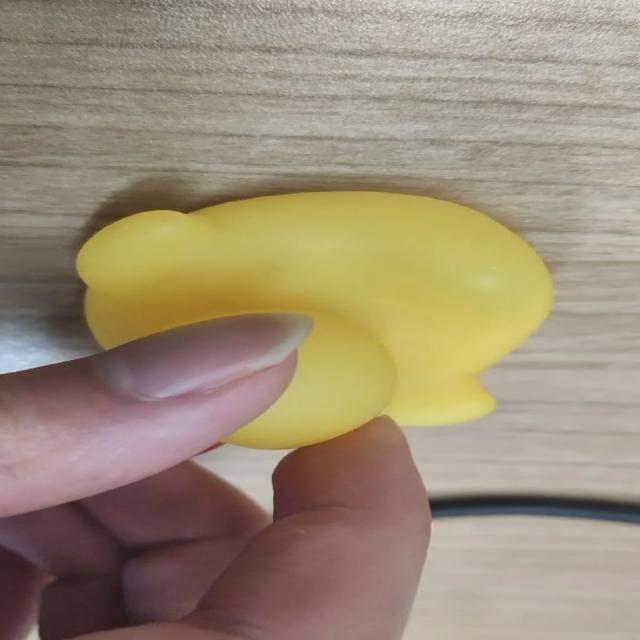rubber-duck: (76, 190, 551, 446)
